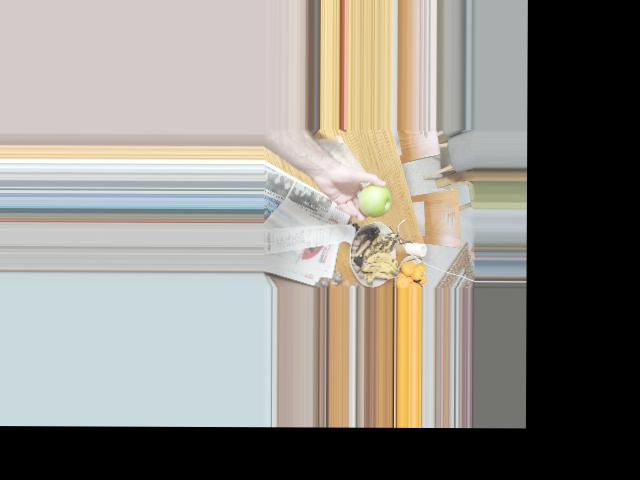apple: (359, 183, 390, 213)
